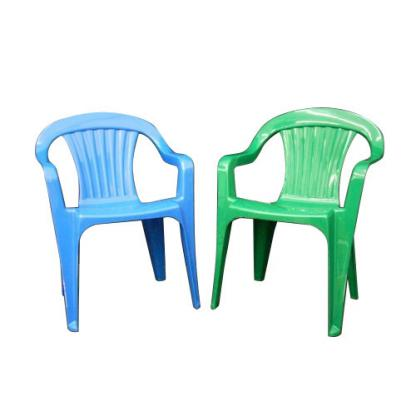chair: (35, 108, 209, 344)
